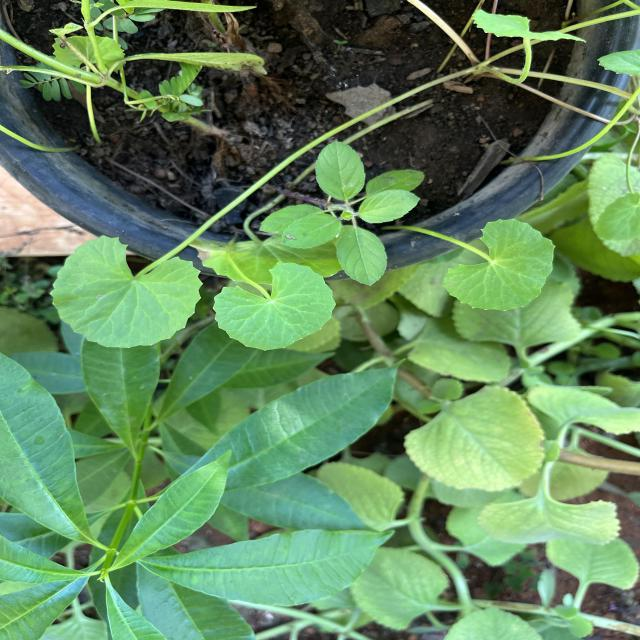Centella asiatica: (46, 233, 206, 349), (211, 260, 339, 354), (440, 215, 558, 314)
